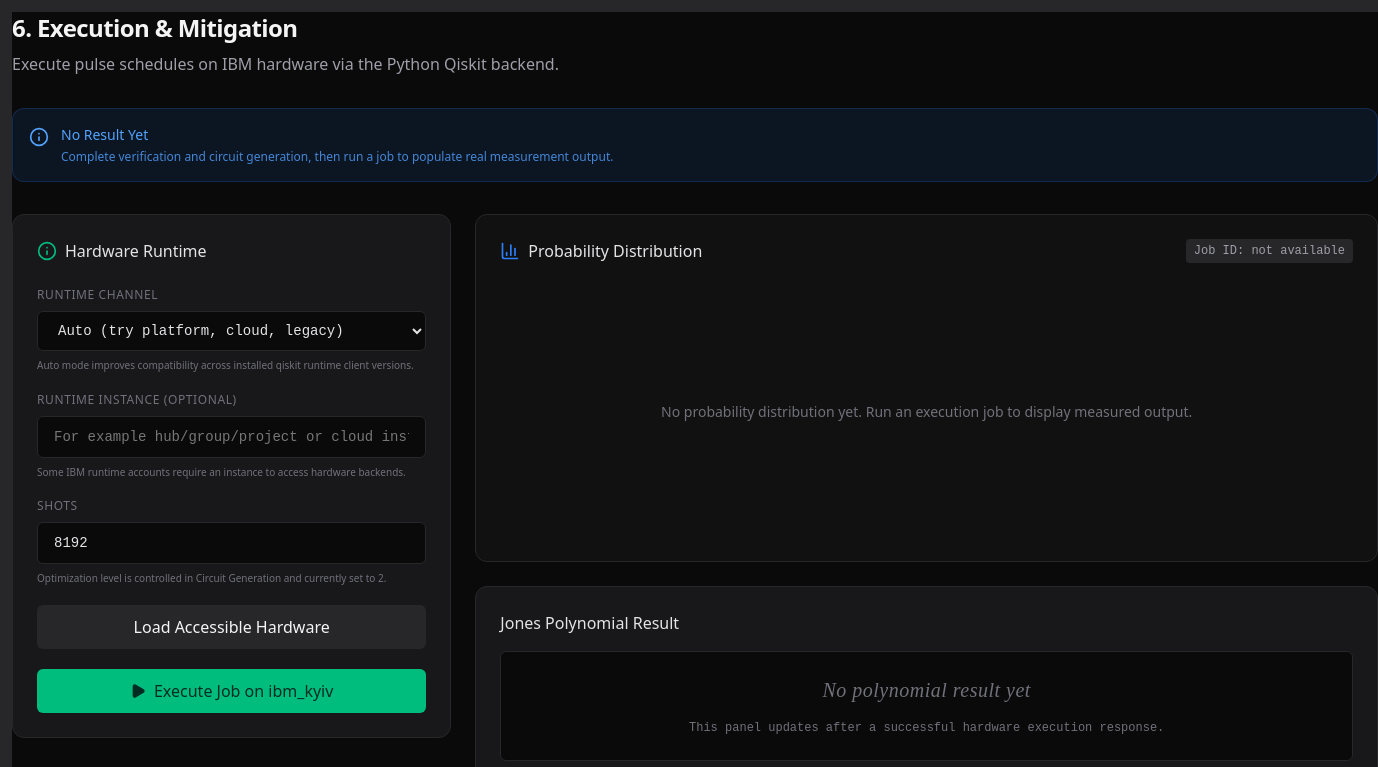
ExecutionResults › shows a validation error when polling fails with 422
The width and height of the screenshot is (1378, 767).
Click the button "Execute Job on ibm_kyiv". click: [232, 690]
box: [37,668,426,712]
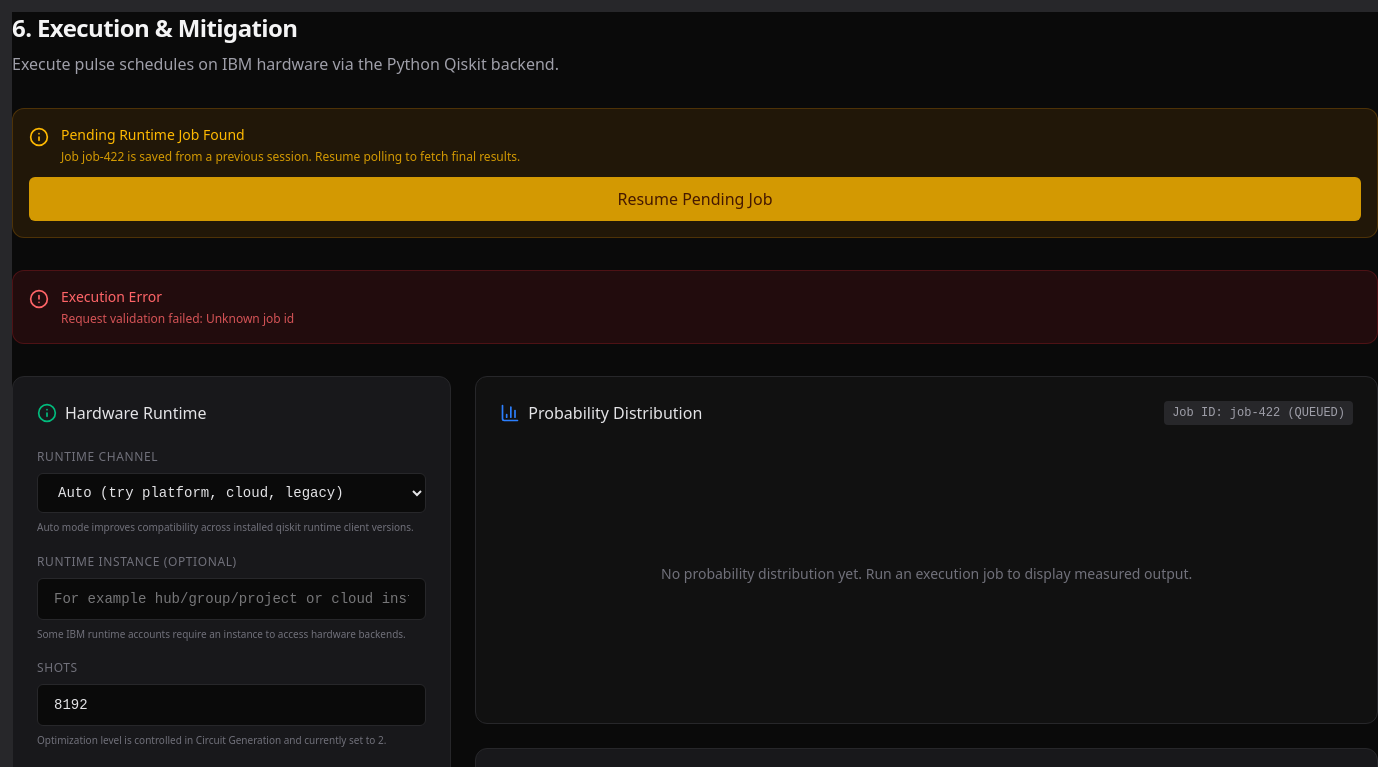
Expected: the text "Request validation failed: Unknown job id" is shown, [61,311,294,327]
